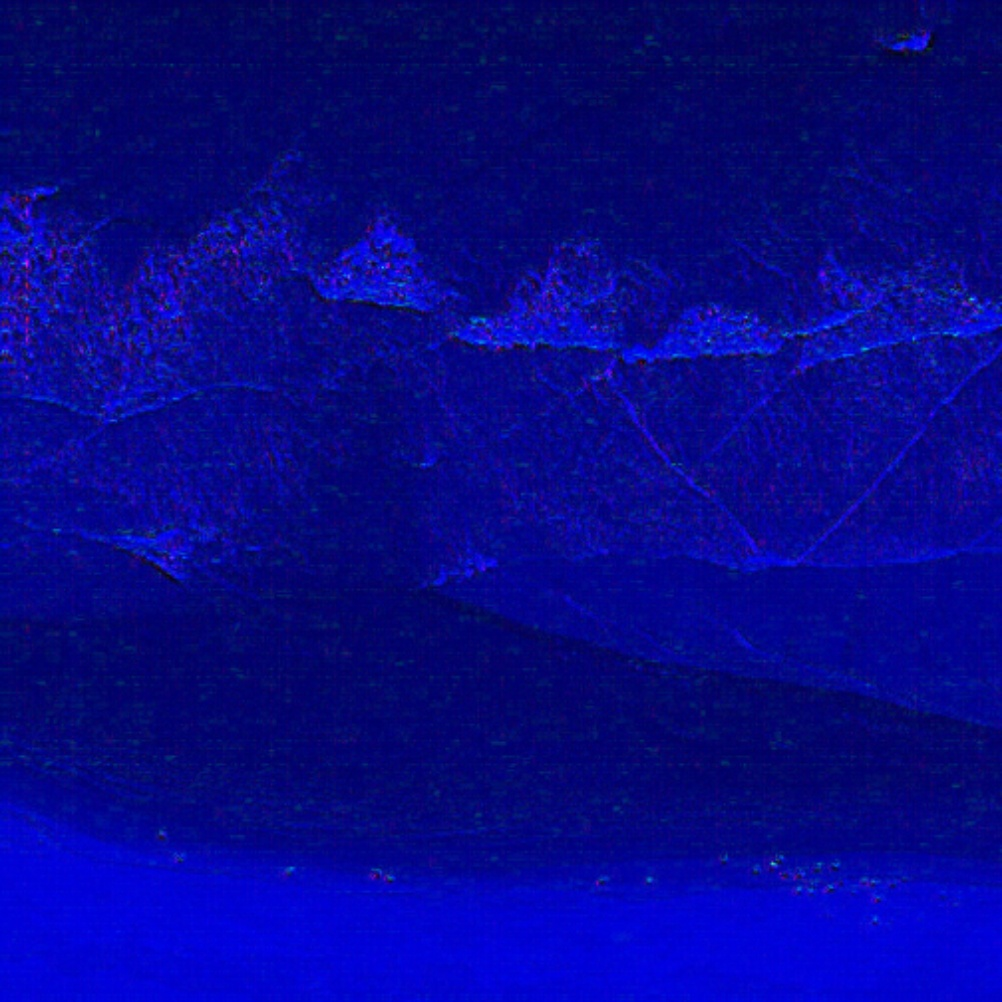rip_current: (183, 257, 460, 625)
